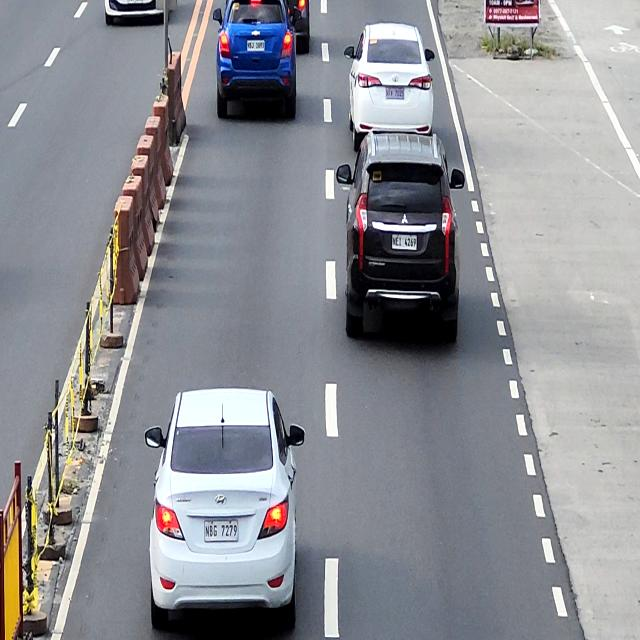Car: (144, 386, 305, 630), (336, 130, 465, 341), (344, 21, 434, 151), (213, 0, 297, 119)
License-Plate: (203, 520, 239, 542), (391, 234, 417, 251), (384, 85, 405, 100), (247, 40, 266, 52)
